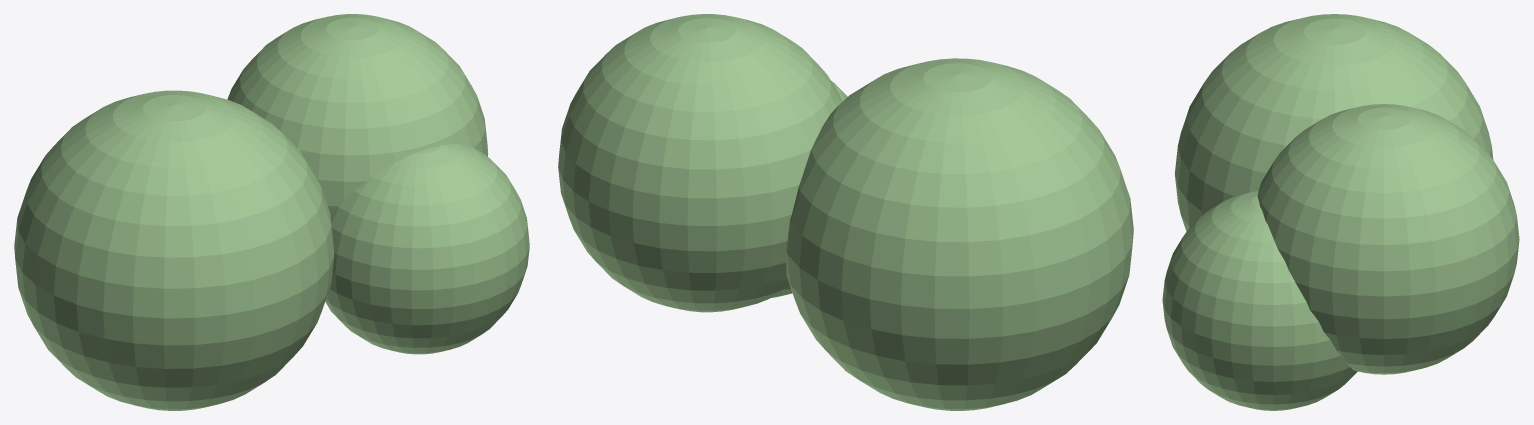
The model's file is MOD_BUSH_NATIVE_STANDARD_001_LOD_CLOSE.glb.
The picture shows the model from 3 angles, left to right: view 1: azimuth 30°, elevation 25°; view 2: azimuth 150°, elevation 25°; view 3: azimuth 270°, elevation 25°; orthographic projection. The views are drawn at different scales.
Visible parts, largest first — view 1: MOD_BUSH_NATIVE_STANDARD_001_CLOSE_CLUSTER_01, MOD_BUSH_NATIVE_STANDARD_001_CLOSE_CLUSTER_03, MOD_BUSH_NATIVE_STANDARD_001_CLOSE_CLUSTER_02; view 2: MOD_BUSH_NATIVE_STANDARD_001_CLOSE_CLUSTER_01, MOD_BUSH_NATIVE_STANDARD_001_CLOSE_CLUSTER_02; view 3: MOD_BUSH_NATIVE_STANDARD_001_CLOSE_CLUSTER_02, MOD_BUSH_NATIVE_STANDARD_001_CLOSE_CLUSTER_01, MOD_BUSH_NATIVE_STANDARD_001_CLOSE_CLUSTER_03.
Part boxes in pixels (<box>): MOD_BUSH_NATIVE_STANDARD_001_CLOSE_CLUSTER_01: <box>14,90,334,410</box>; MOD_BUSH_NATIVE_STANDARD_001_CLOSE_CLUSTER_03: <box>325,143,529,354</box>; MOD_BUSH_NATIVE_STANDARD_001_CLOSE_CLUSTER_02: <box>227,14,488,215</box>; MOD_BUSH_NATIVE_STANDARD_001_CLOSE_CLUSTER_01: <box>785,58,1133,410</box>; MOD_BUSH_NATIVE_STANDARD_001_CLOSE_CLUSTER_02: <box>558,14,842,312</box>; MOD_BUSH_NATIVE_STANDARD_001_CLOSE_CLUSTER_02: <box>1257,104,1519,374</box>; MOD_BUSH_NATIVE_STANDARD_001_CLOSE_CLUSTER_01: <box>1174,14,1493,231</box>; MOD_BUSH_NATIVE_STANDARD_001_CLOSE_CLUSTER_03: <box>1162,191,1357,410</box>.
Size of the model in its own units: 0.86 by 0.54 by 0.58.
